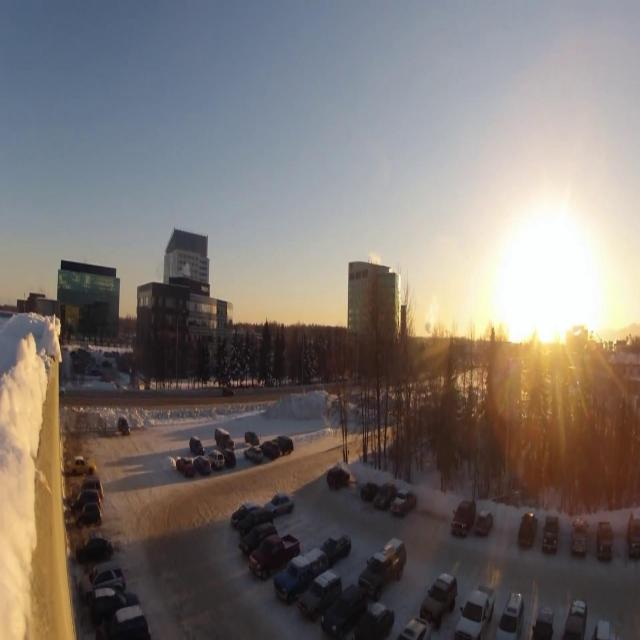fire: (501, 235, 587, 349)
